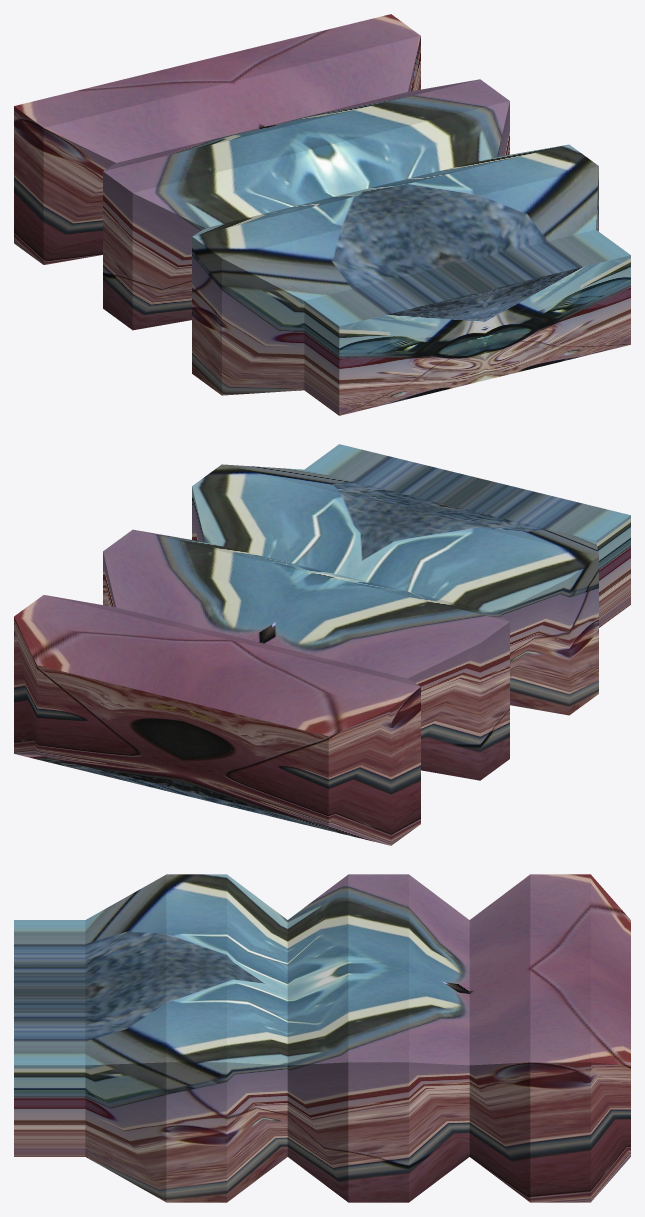
3 renders of one model, top to bottom at view 1: azimuth 30°, elevation 25°; view 2: azimuth 150°, elevation 25°; view 3: azimuth 270°, elevation 25°, orthographic. The views are drawn at different scales.
Visible parts, largest first — view 1: Body-3_Cube.003; view 2: Body-3_Cube.003; view 3: Body-3_Cube.003.
Boxes of the visible parts, x1,y1,x2,y2 form: Body-3_Cube.003: [14, 14, 630, 415]; Body-3_Cube.003: [14, 444, 630, 845]; Body-3_Cube.003: [14, 874, 630, 1202].
Size of the model in its own units: 9.94 by 3.46 by 13.79.
